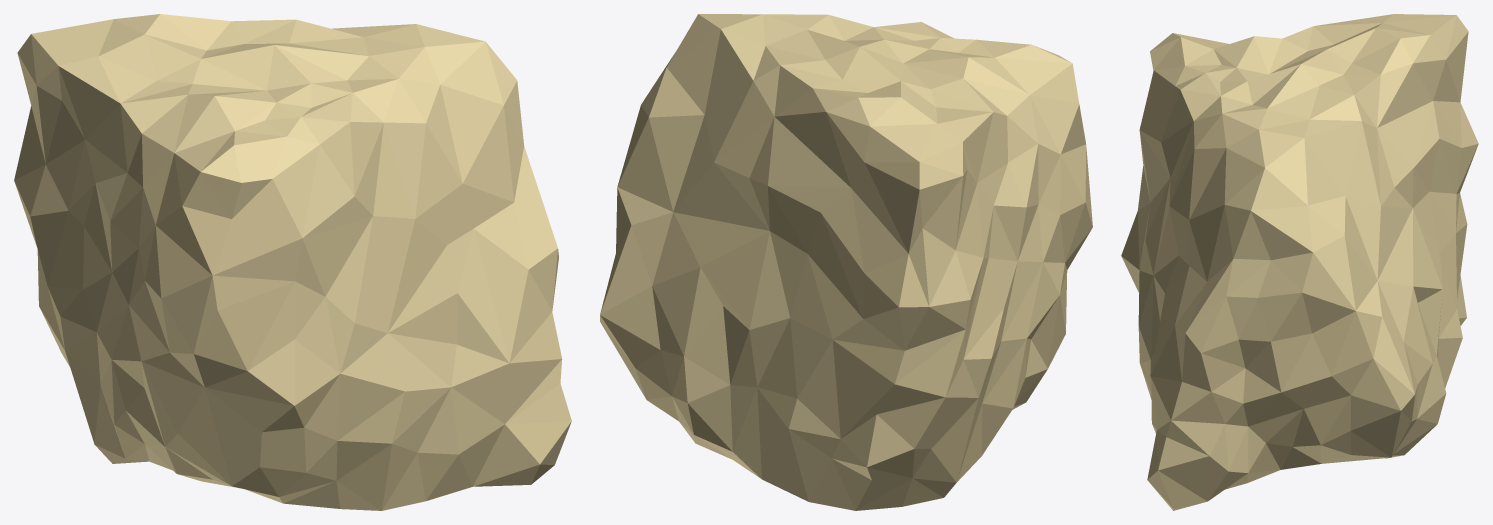
The model's file is Asteroid (24).fbx.
3 renders of one model, left to right at view 1: azimuth 30°, elevation 25°; view 2: azimuth 150°, elevation 25°; view 3: azimuth 270°, elevation 25°, orthographic. The views are drawn at different scales.
Parts seen in each view (by area): view 1: Asteroid193; view 2: Asteroid193; view 3: Asteroid193.
Part boxes in pixels (bbox=[...]): Asteroid193: bbox=[14, 14, 571, 510]; Asteroid193: bbox=[600, 14, 1092, 510]; Asteroid193: bbox=[1121, 14, 1478, 510].
Size of the model in its own units: 507 by 518 by 443.
